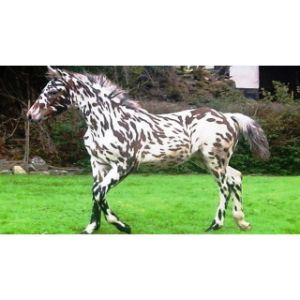horse: (30, 69, 270, 232)
